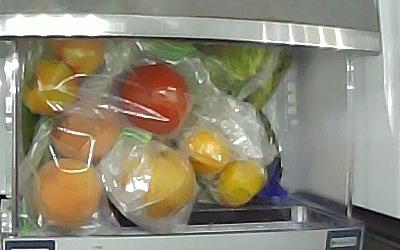peach_vinyl: (31, 156, 101, 226), (48, 105, 120, 161)
pear_vinyl: (115, 146, 195, 219)
tangerine_vinyl: (215, 157, 268, 206), (183, 128, 233, 175)
tomato_vinyl: (117, 61, 188, 133), (21, 57, 78, 114), (47, 38, 106, 77)
